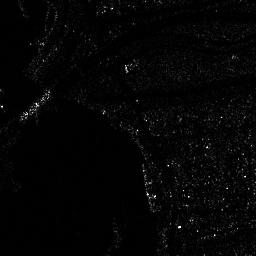ship: (20, 88, 51, 120)
